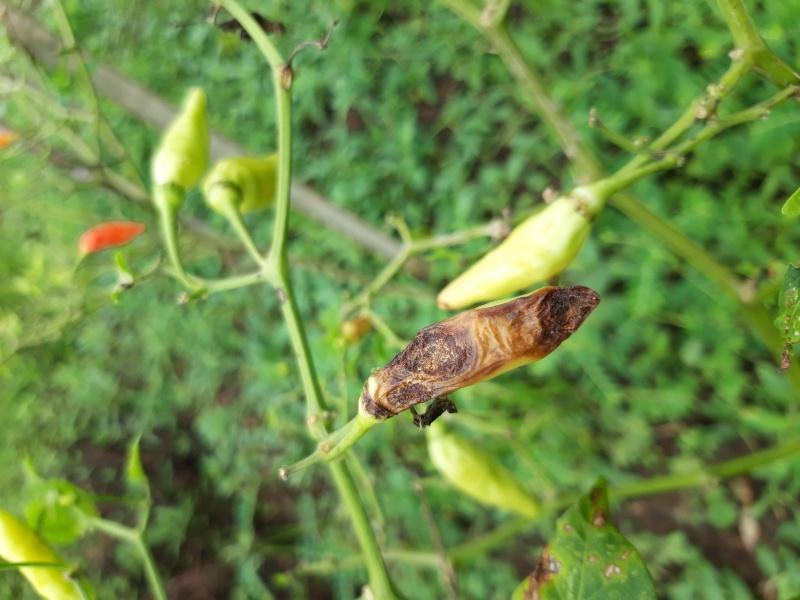antraknosa: (366, 285, 601, 410)
cabai_normal: (438, 199, 590, 310), (430, 432, 543, 521), (148, 86, 215, 192), (199, 152, 291, 213), (77, 219, 148, 260)
